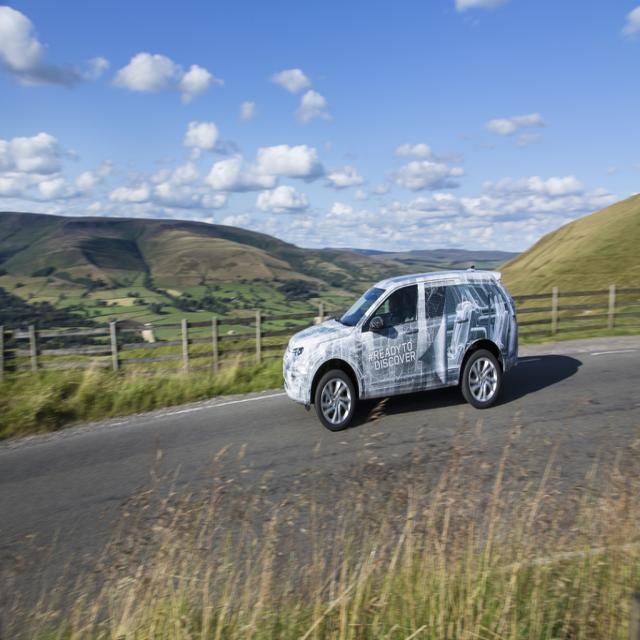car: (278, 268, 520, 433)
